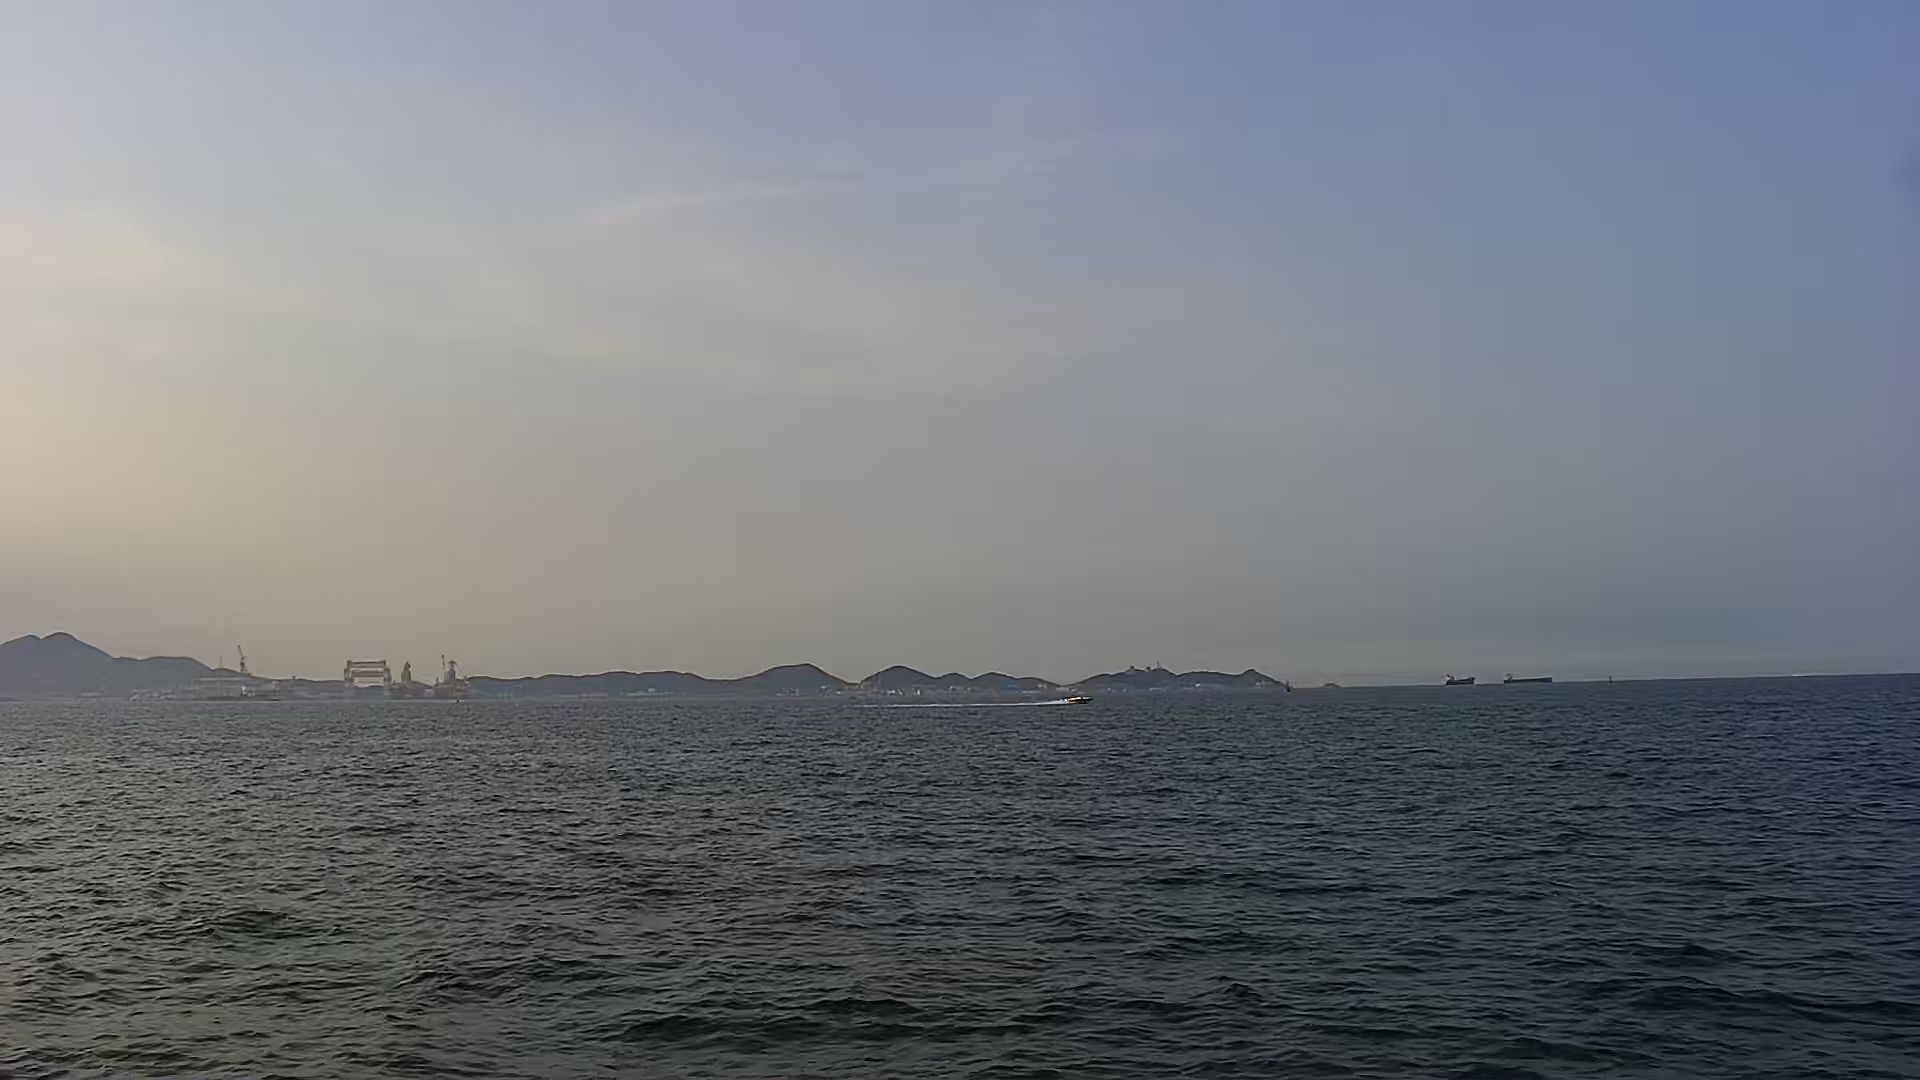boat: (1055, 687, 1097, 712)
